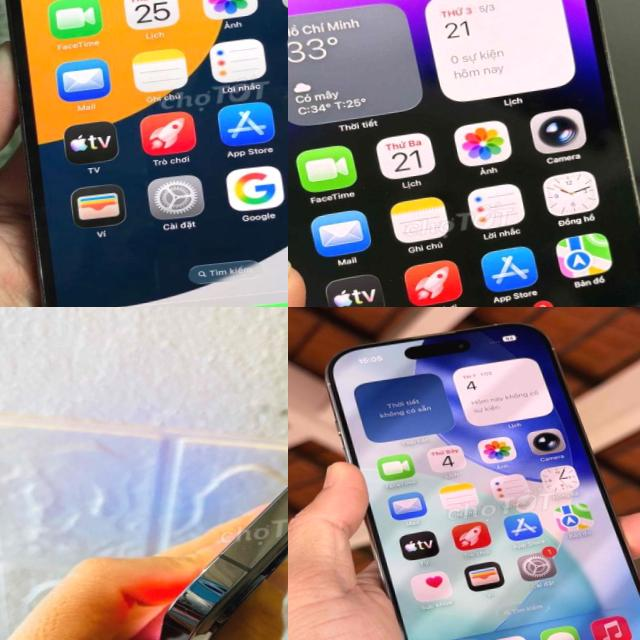gen_12_13: (0, 0, 288, 307), (111, 385, 288, 640)
gen_14: (288, 0, 640, 307)
gen_16: (305, 308, 640, 640)
